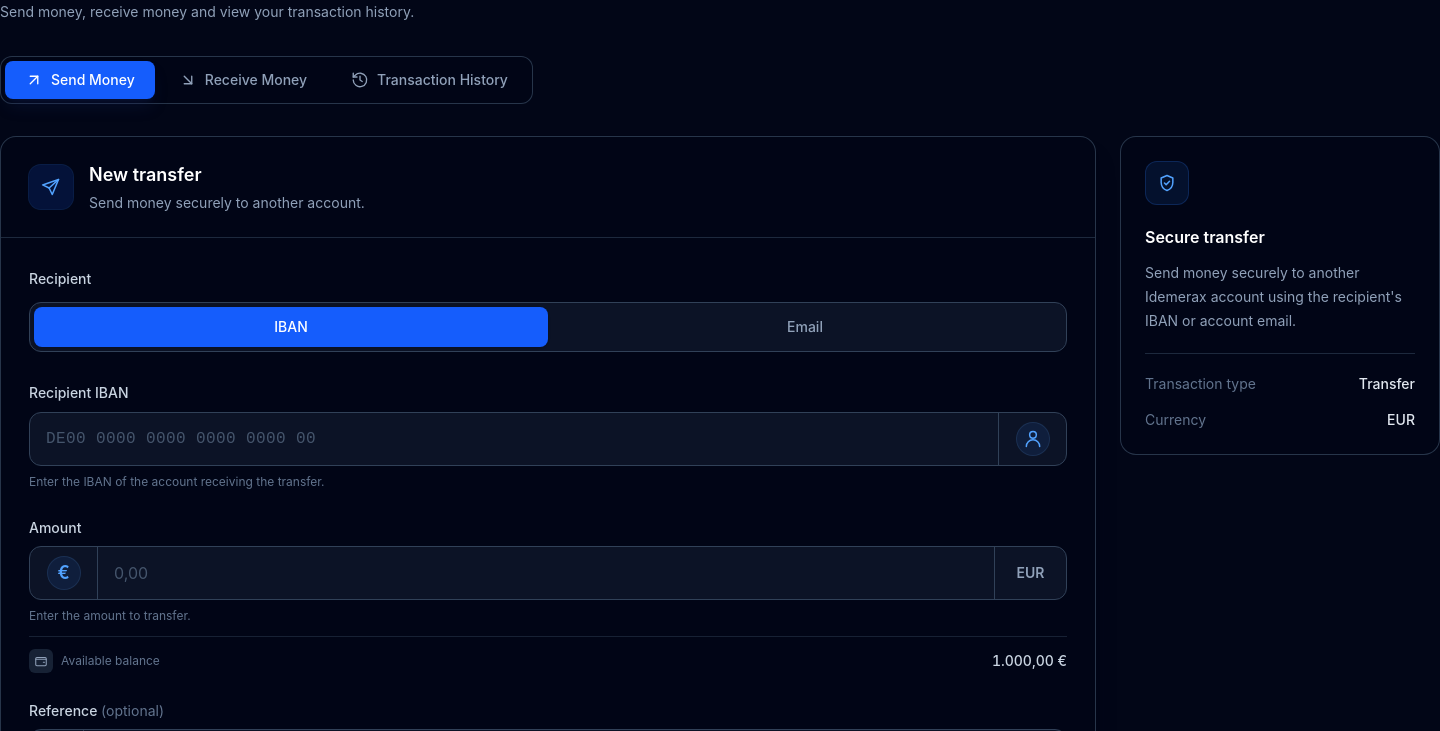
TransactionsPage › creates a transaction with a reference
Check: the text "1.000,00 €" is shown, box [992,651,1067,671]
Type "DE89370400440532013000" into the field labelled "Recipient IBAN" at (514, 439), box [30,413,998,465]
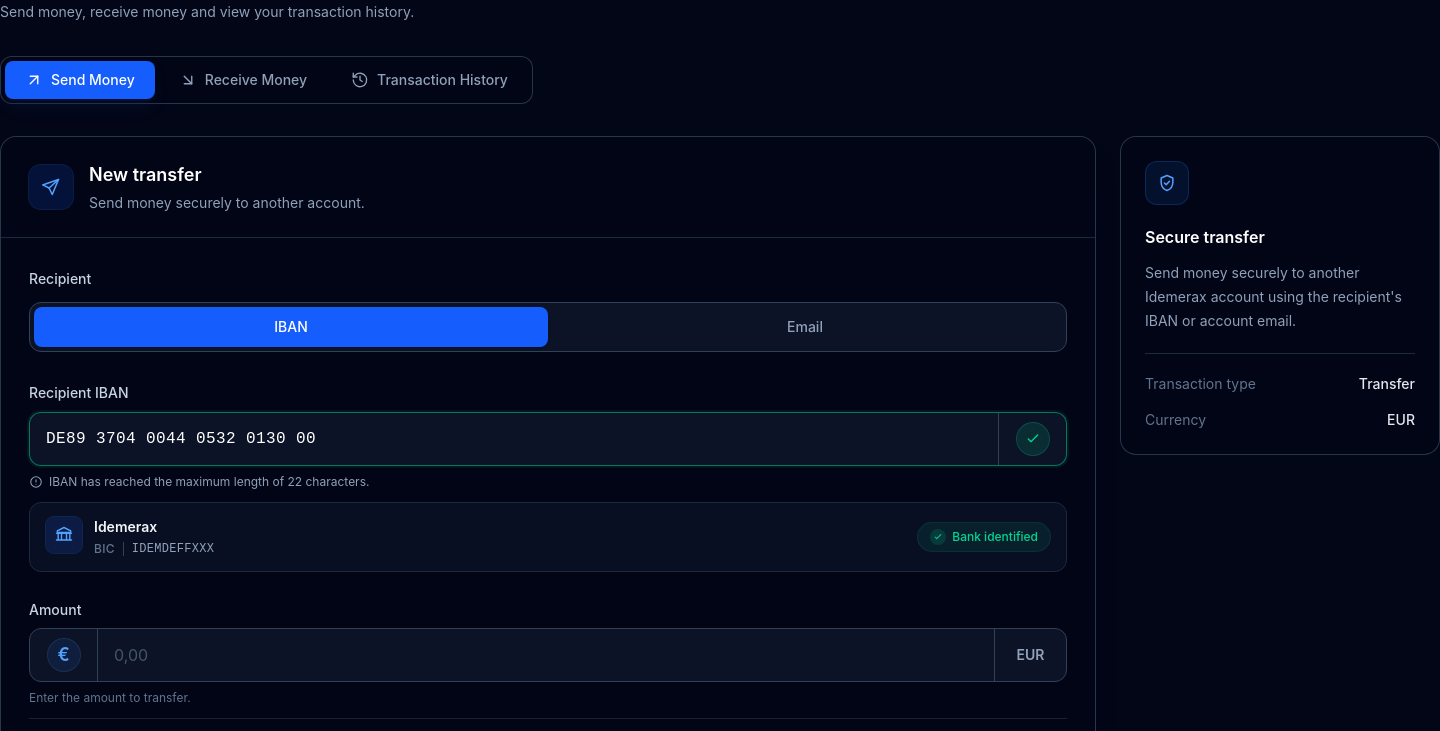
Type "250" into the field labelled "Amount" at (546, 655), box [98,629,994,681]
(page scrolled)
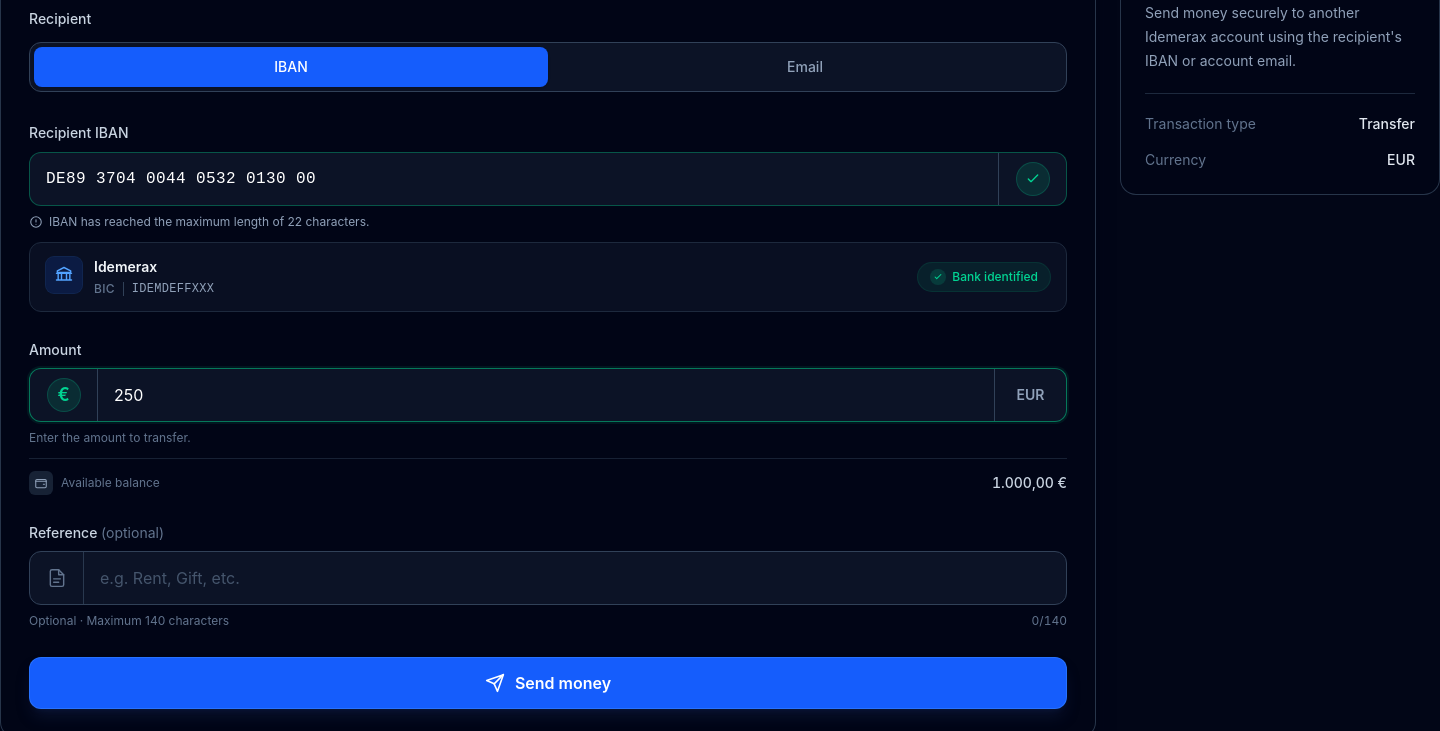
Type "Rent" into the field labelled "Reference (optional)" at (575, 578), box [84,552,1066,604]
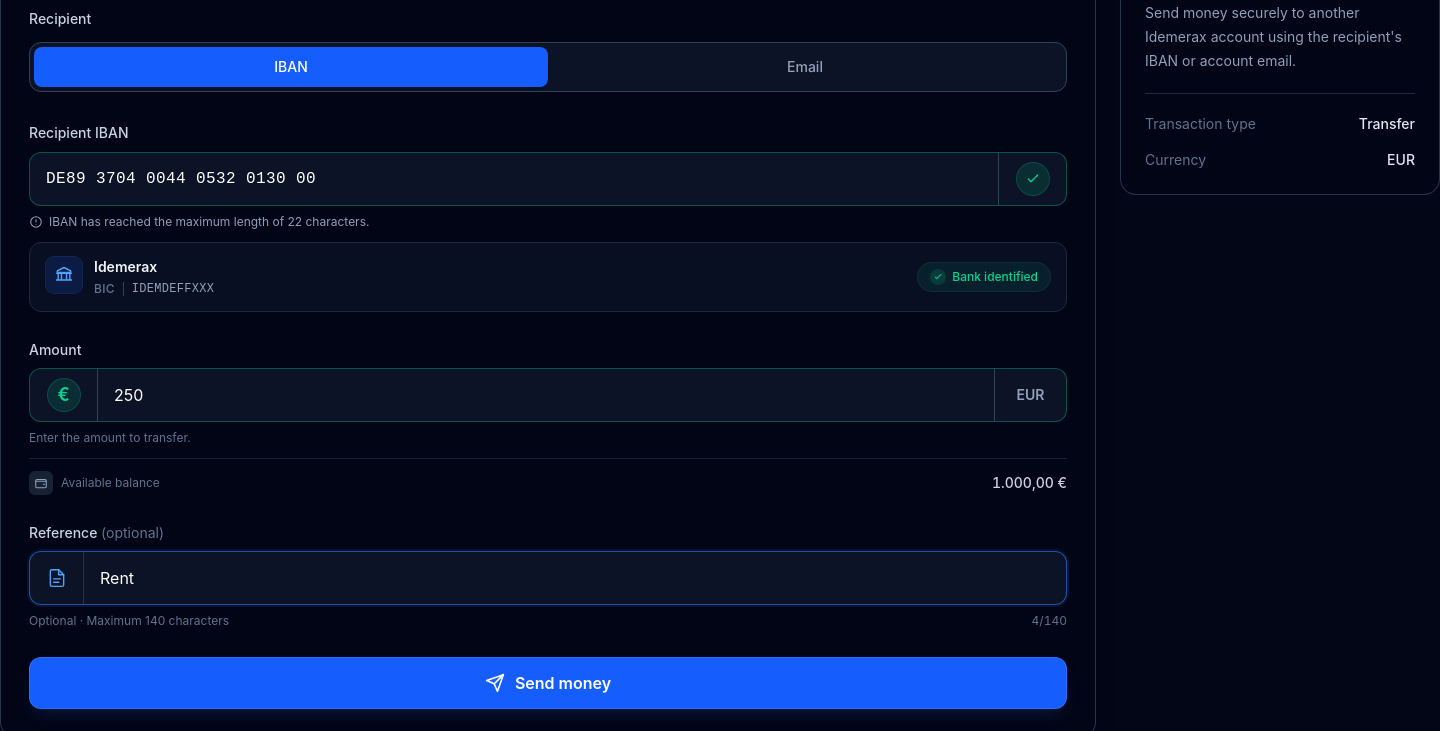
Click the button "Send money" at (548, 683), box [29,657,1067,709]
(page scrolled)
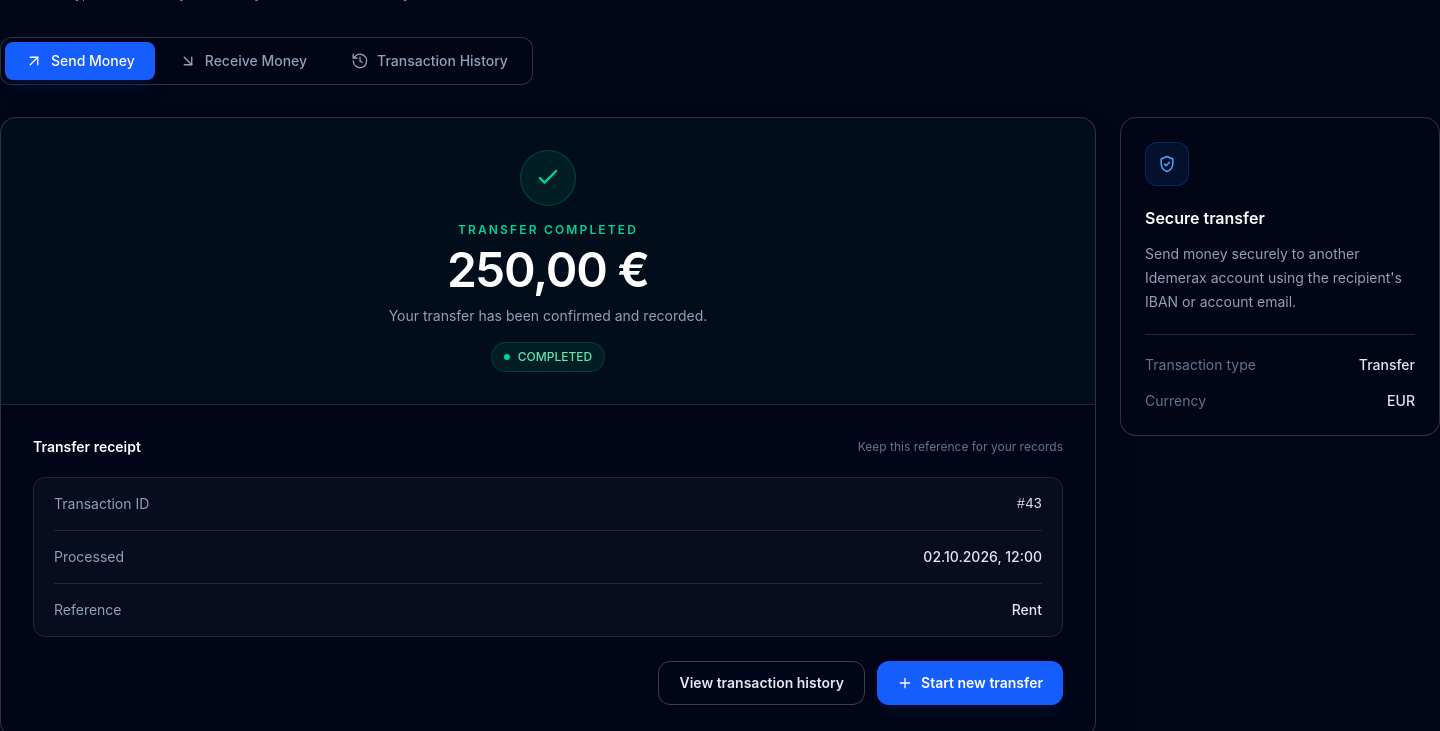
Check: the text "Transfer completed" is shown, box [458,222,638,237]
